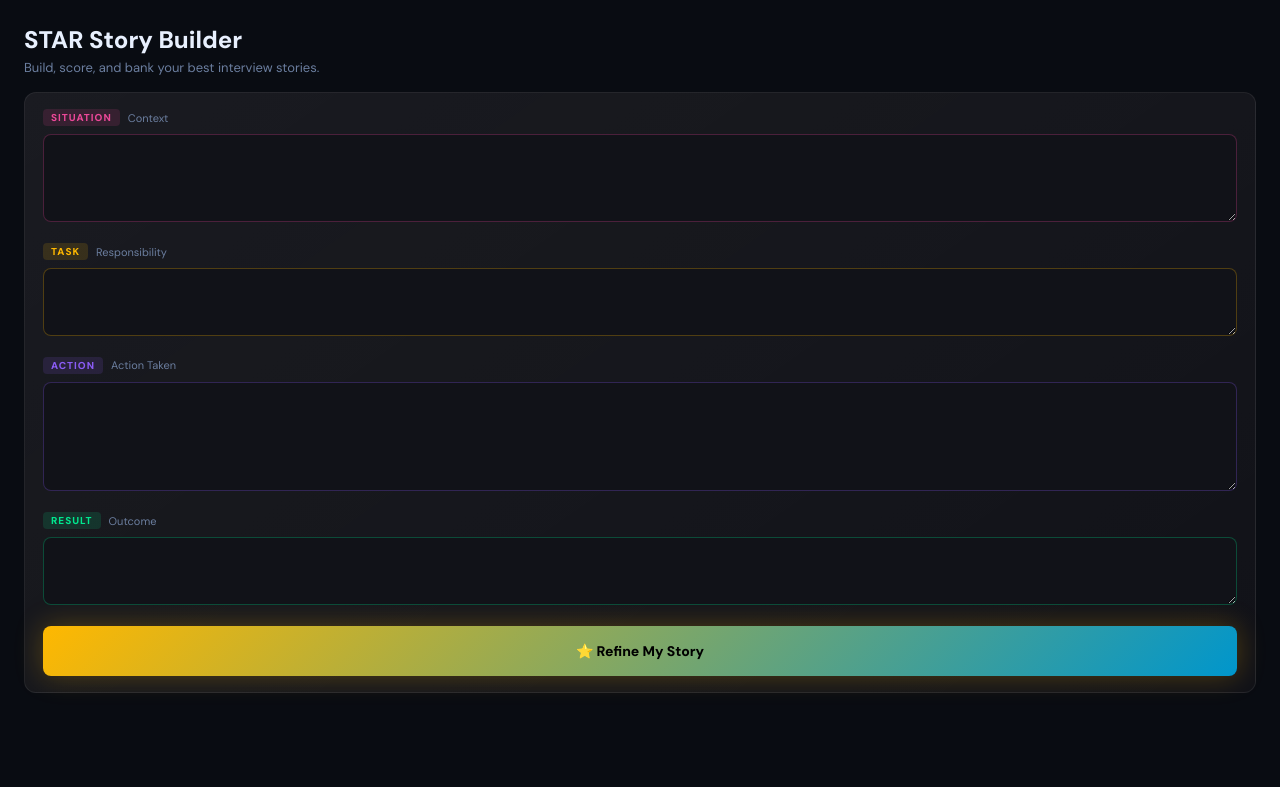
it: the STAR review result › is named an AI estimate of the wording, and says it is not a verified assessment
This screenshot has width=1280, height=787.
Type "Our checkout team had to migrate platforms while 2 million users shopped daily." into the text box named "Situation". click: (640,178)
box: [43, 134, 1237, 222]
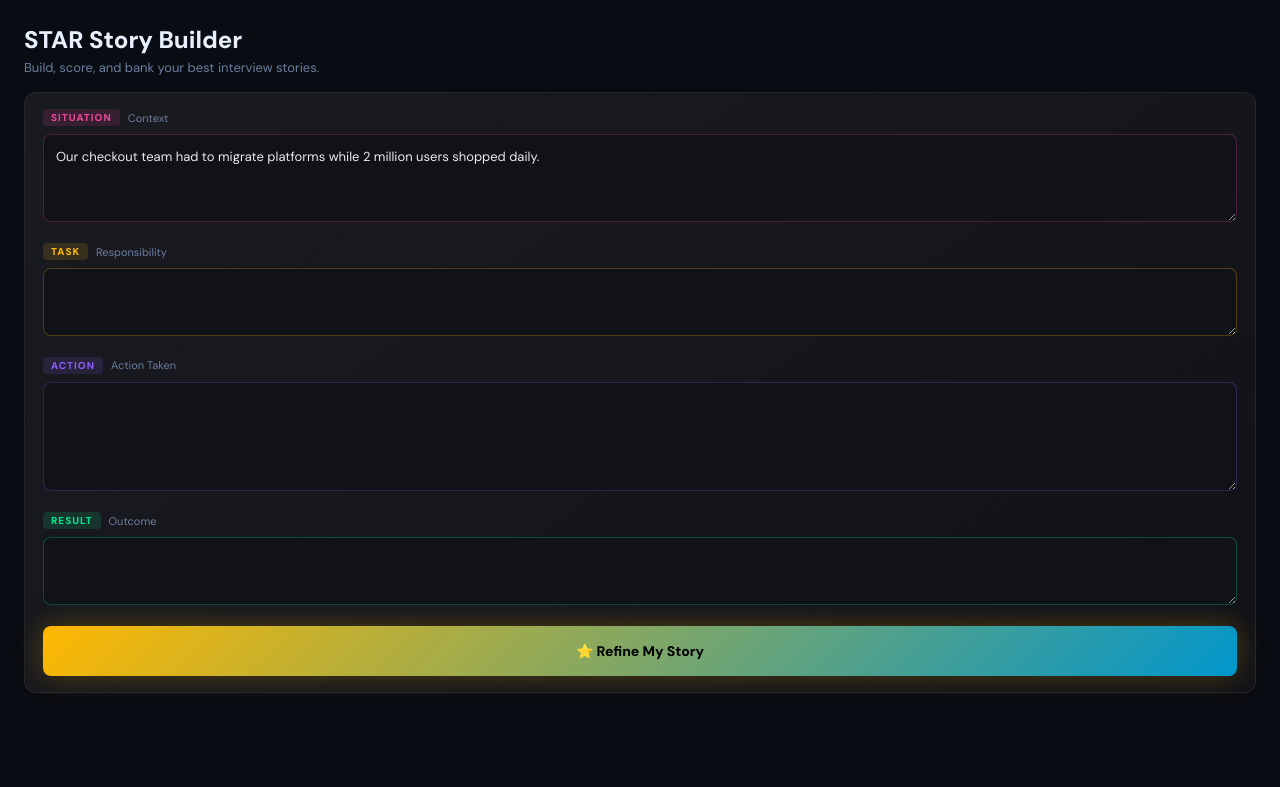
Type "I owned the migration plan and had to avoid downtime." into the text box named "Task". click: (640,302)
box: [43, 268, 1237, 336]
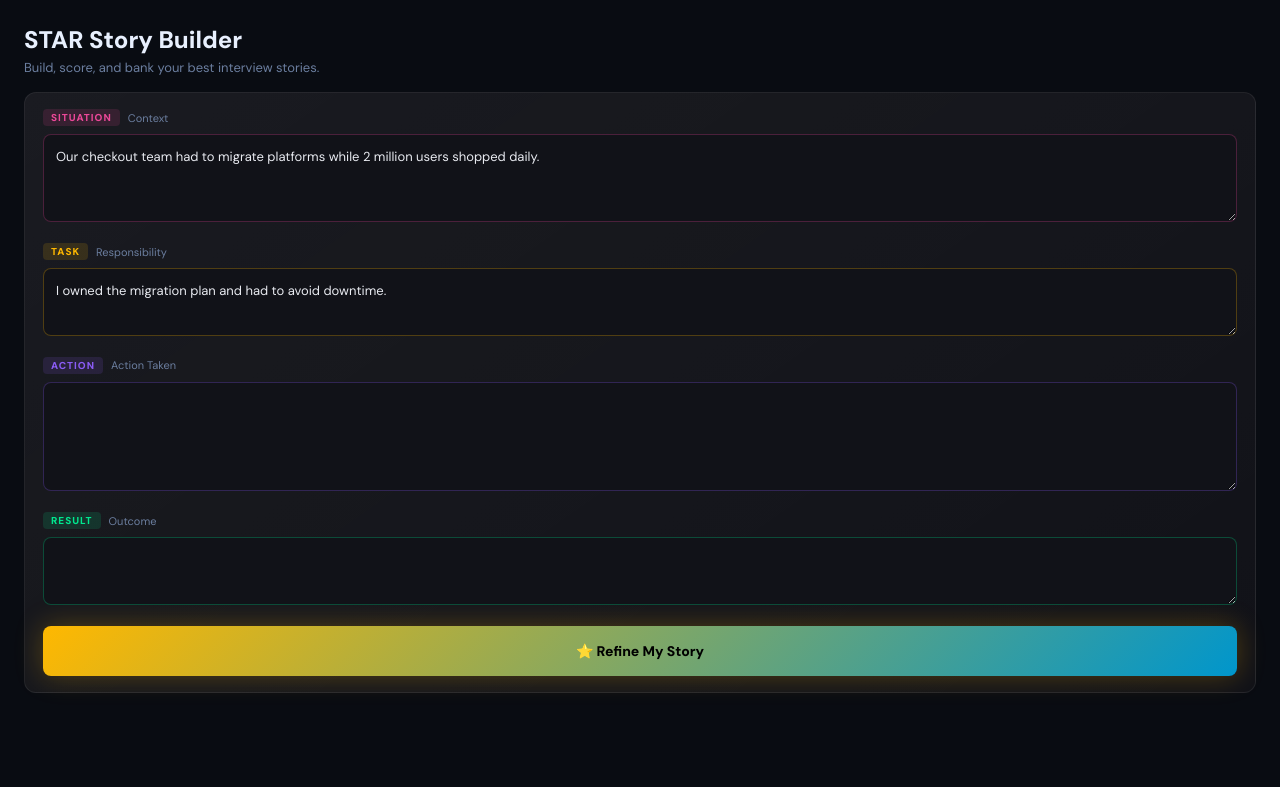
Type "I set up blue-green deployments and wrote rollback scripts." into the text box named "Action". click: (640,437)
box: [43, 382, 1237, 491]
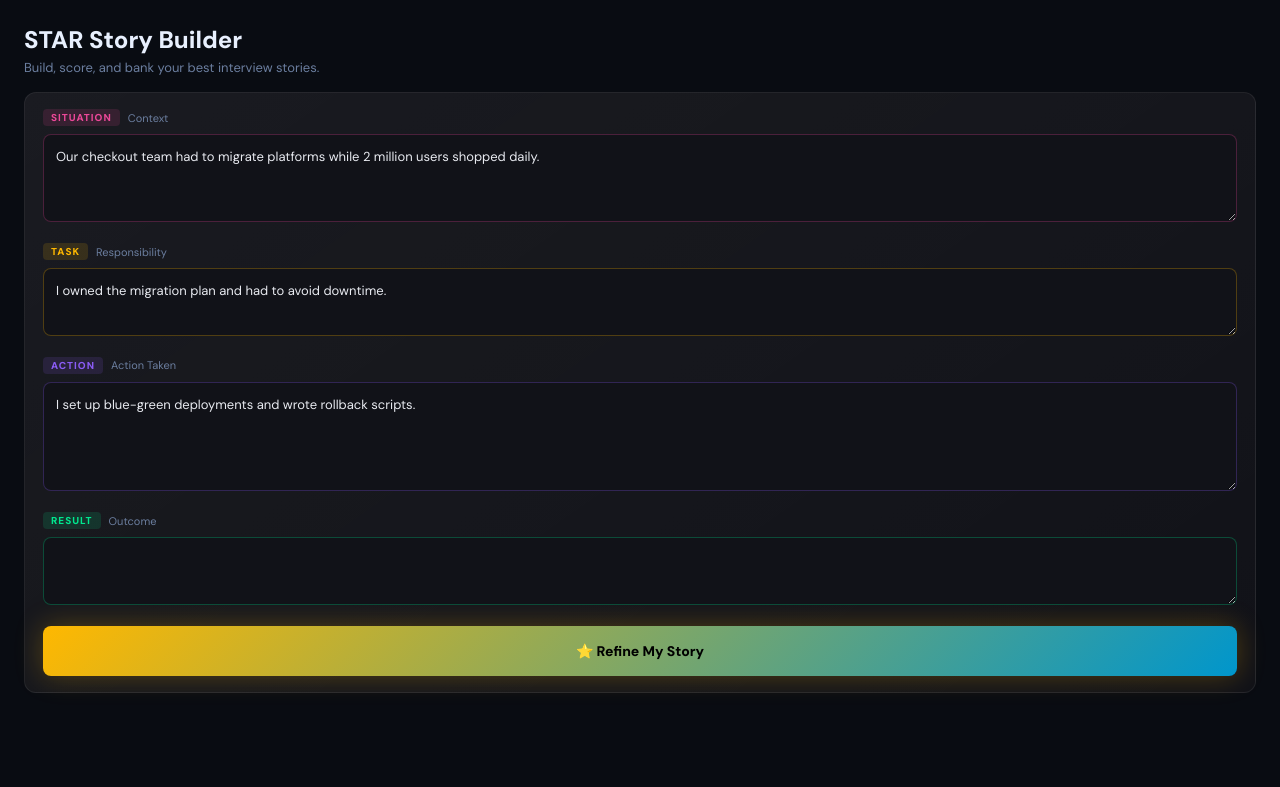
Type "We finished with no downtime and conversion rose 15 percent." into the text box named "Result". click: (640,571)
box: [43, 537, 1237, 605]
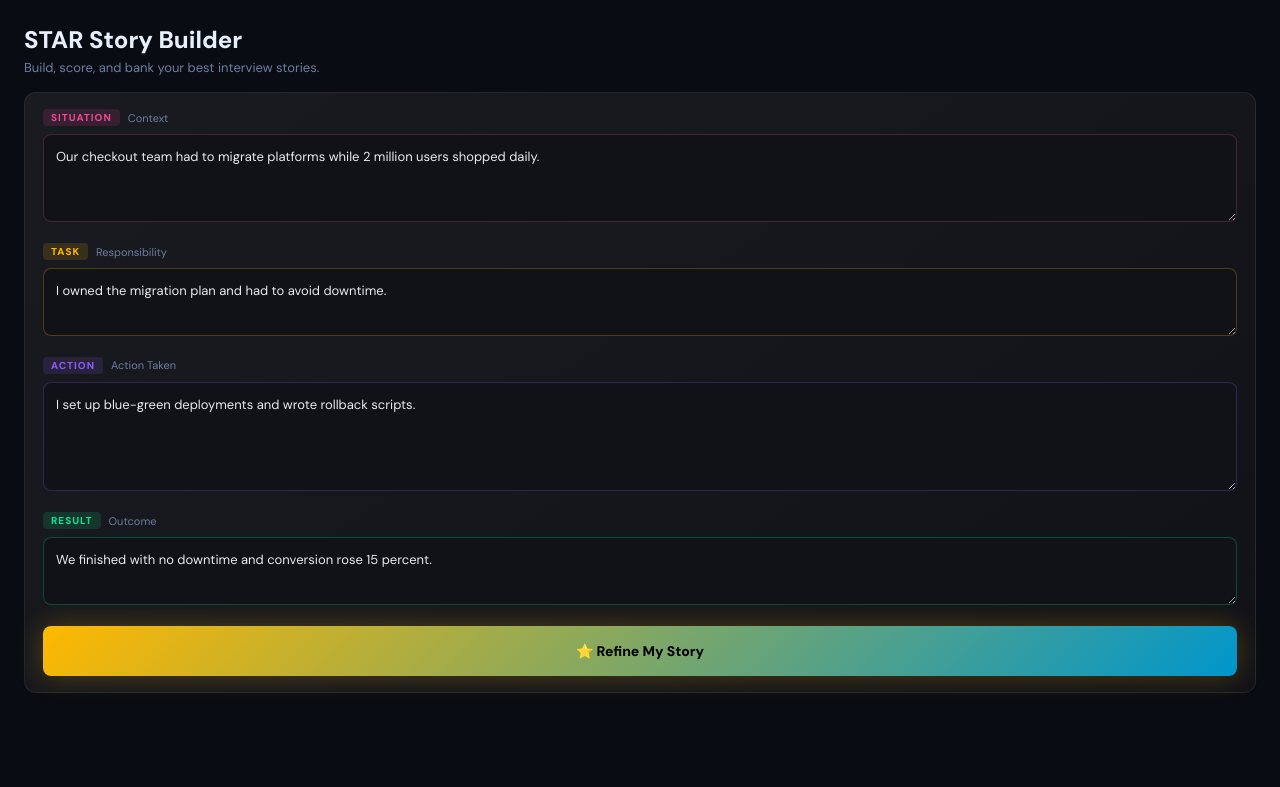
Click the button "⭐ Refine My Story". click: (640,651)
box: [43, 626, 1237, 676]
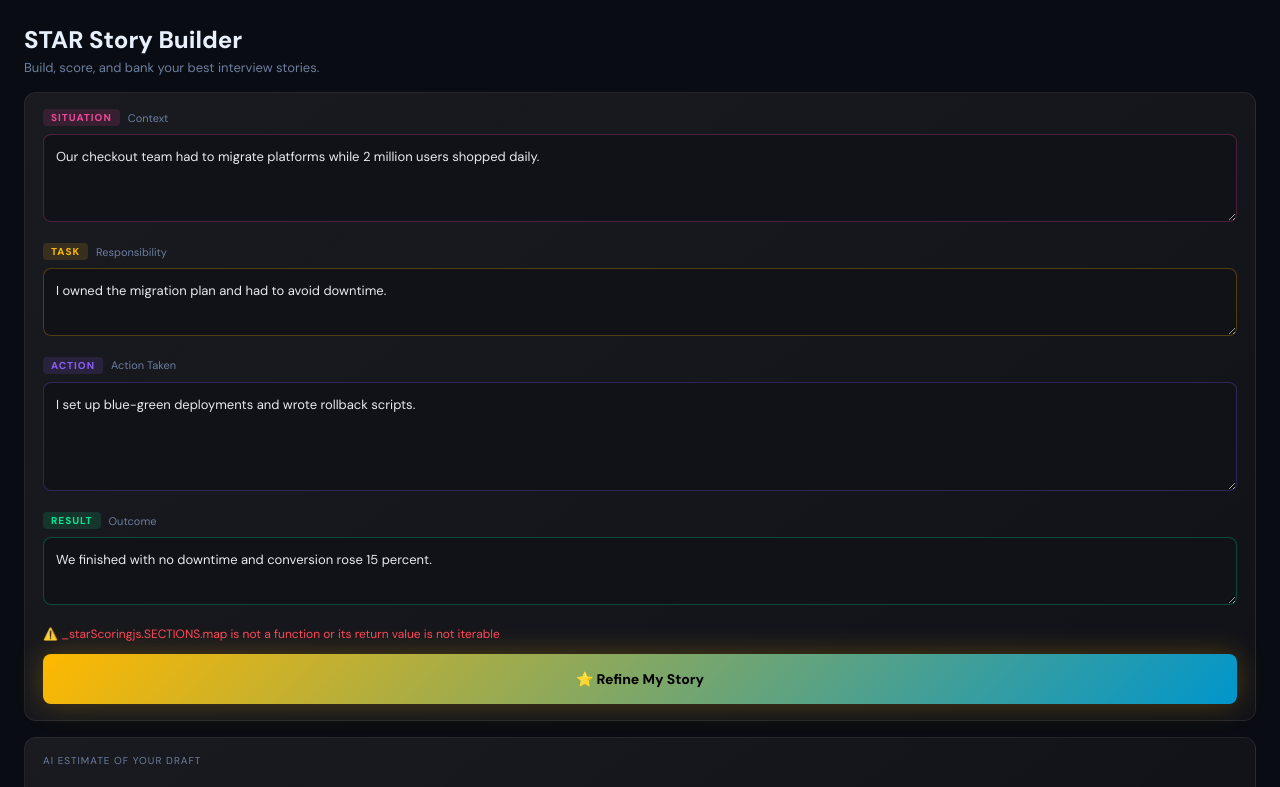
Expected: the text "AI estimate" is shown, [43, 754, 201, 767]
